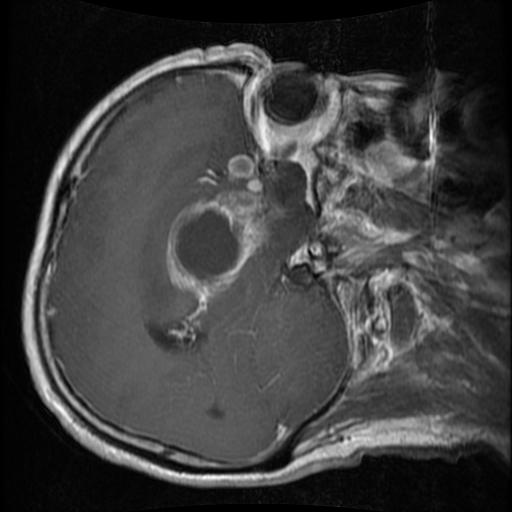glioma: (165, 155, 286, 305)
